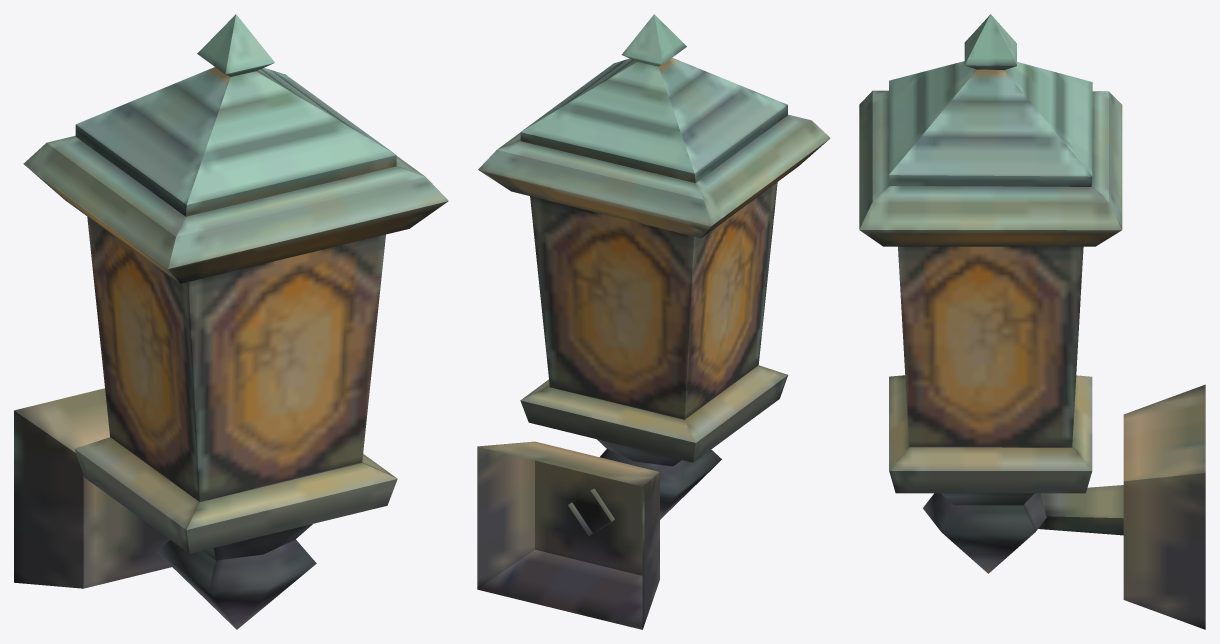
File: crypt_wall_light02.fbx
3 renders of one model, left to right at view 1: azimuth 30°, elevation 25°; view 2: azimuth 150°, elevation 25°; view 3: azimuth 270°, elevation 25°, orthographic. The views are drawn at different scales.
Parts seen in each view (by area): view 1: Material_#270/miscellaneous; view 2: Material_#270/miscellaneous; view 3: Material_#270/miscellaneous.
Boxes of the visible parts, x1,y1,x2,y2 form: Material_#270/miscellaneous: (14,14,448,629); Material_#270/miscellaneous: (477,14,830,629); Material_#270/miscellaneous: (859,14,1205,629).
Size of the model in its own units: 0.6032 by 1.29 by 0.7067.
